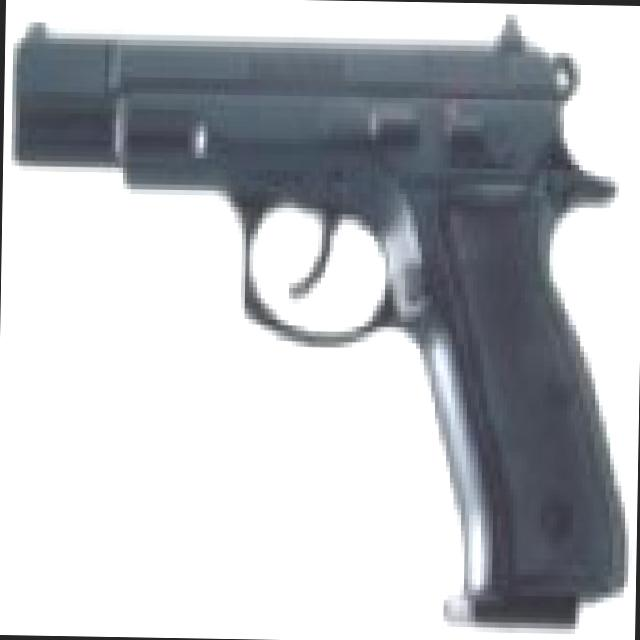handgun: (0, 5, 638, 631)
